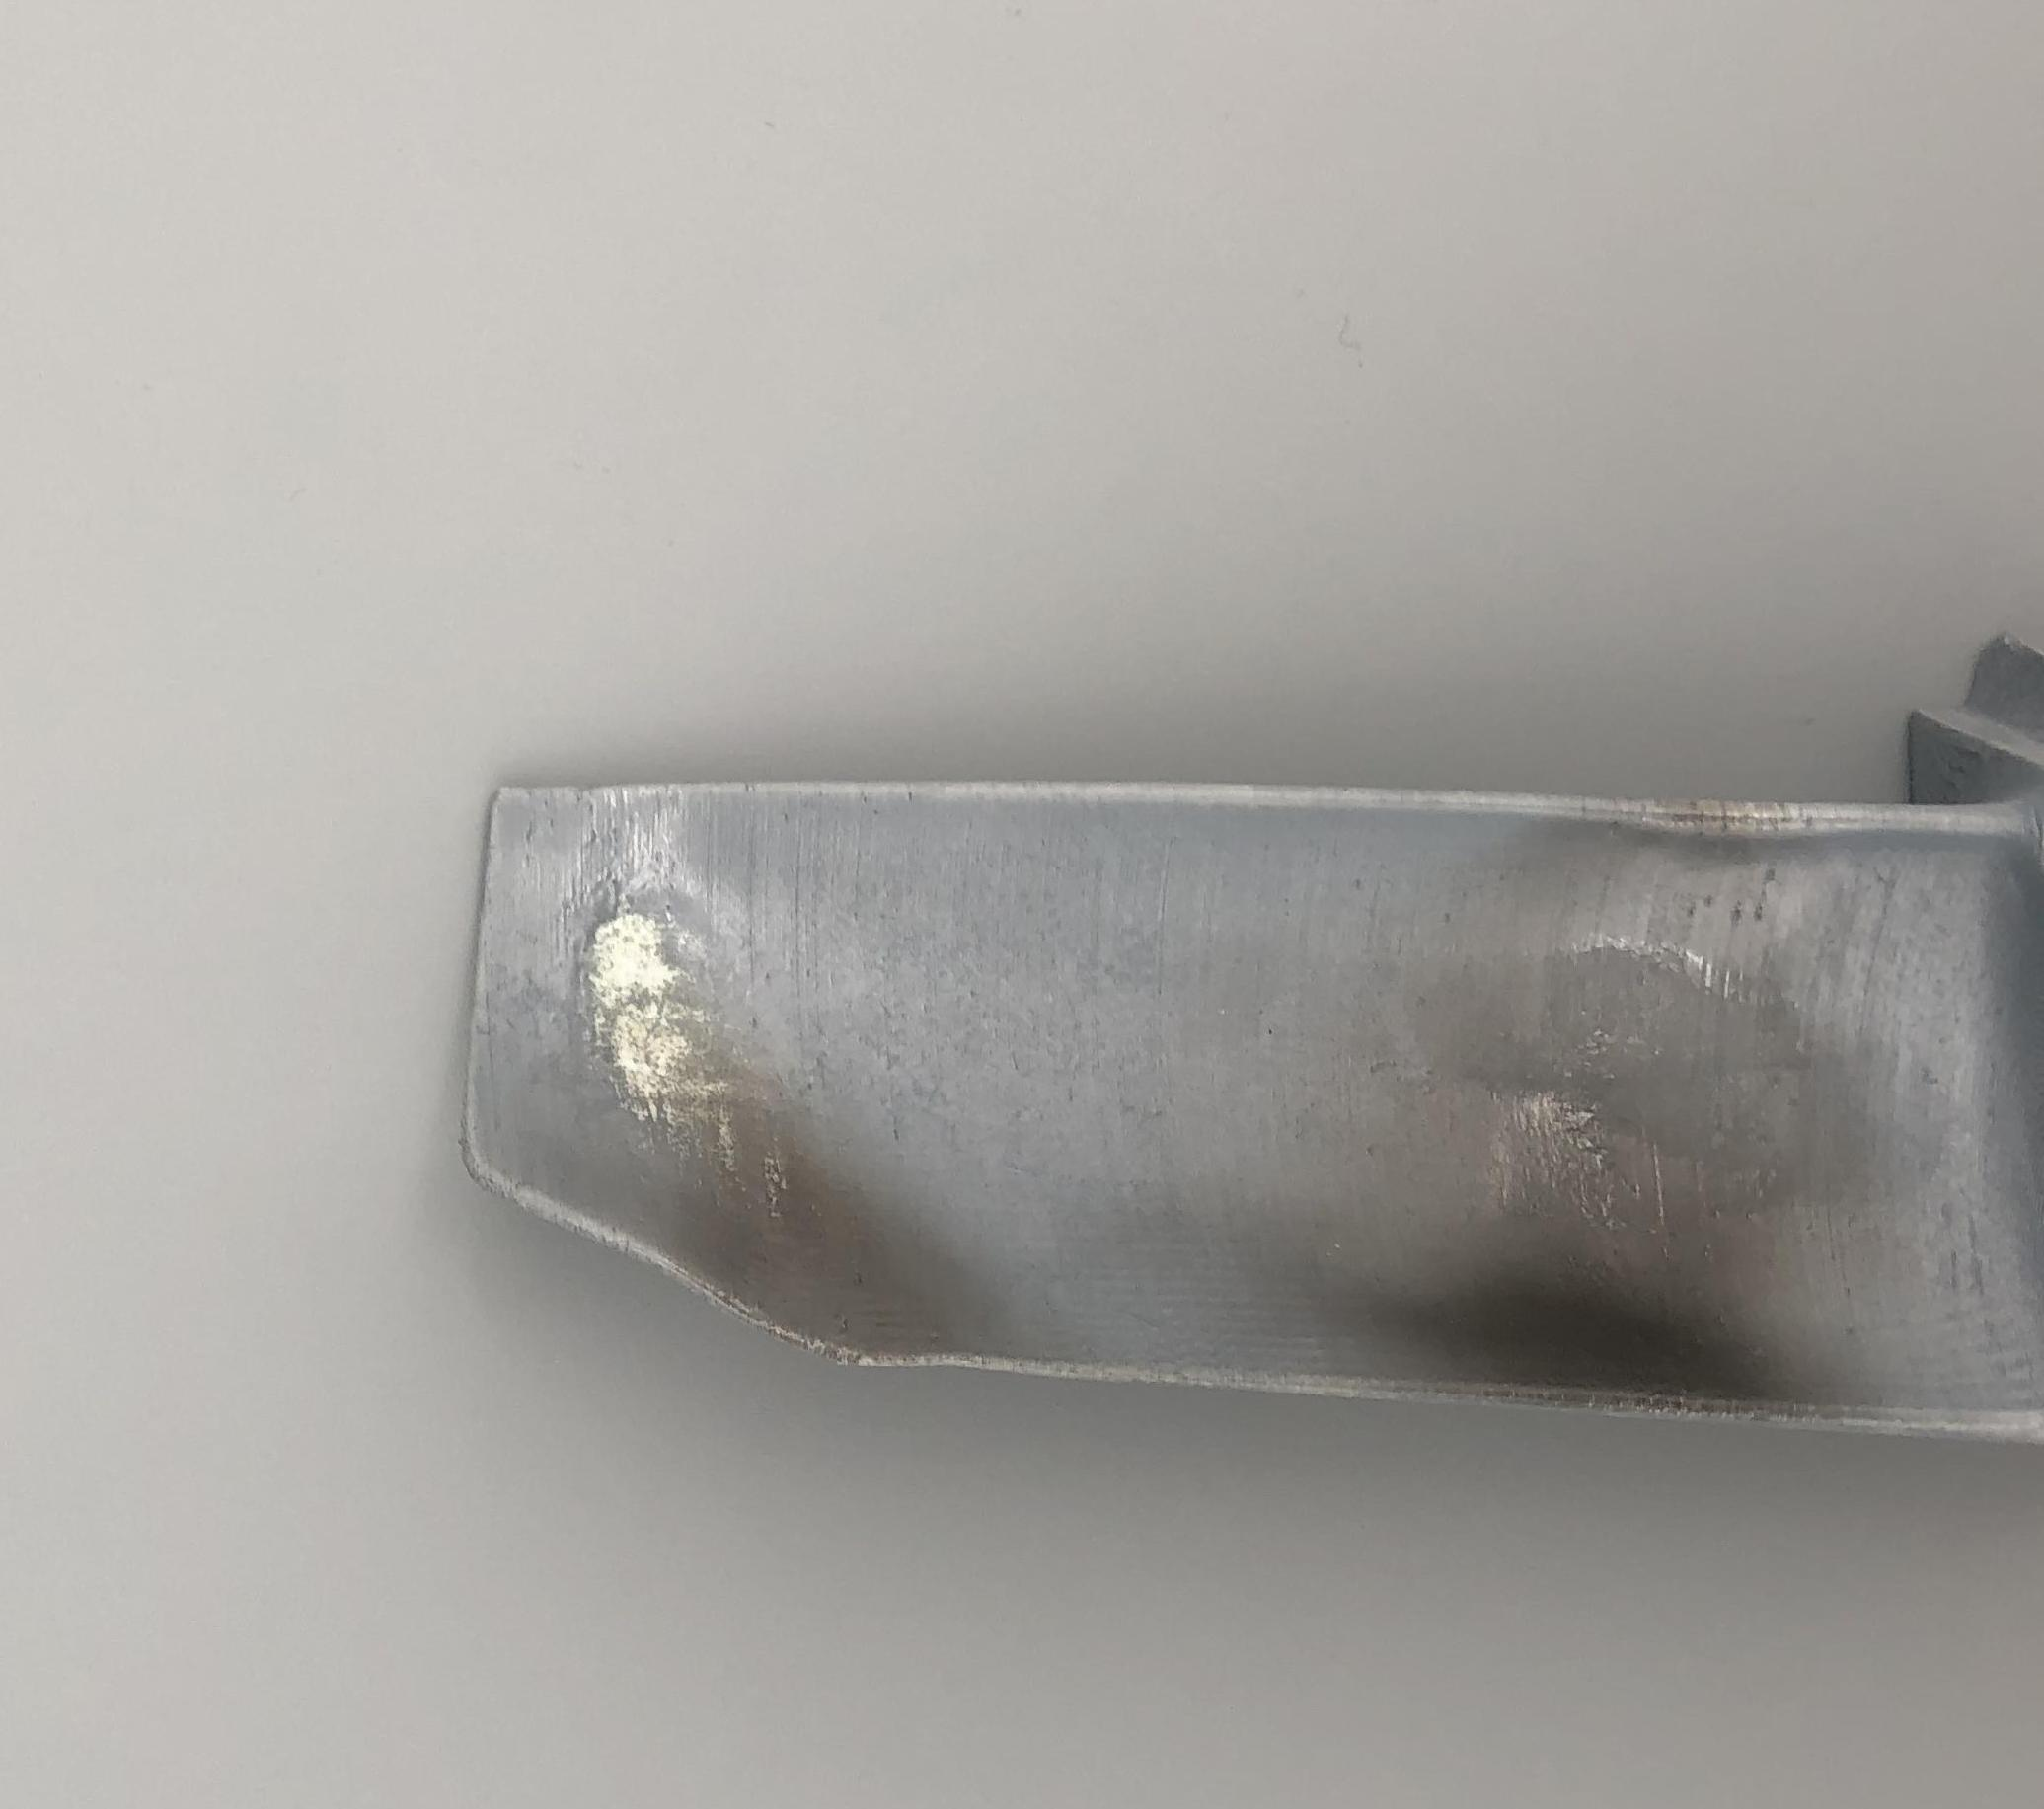ablation: (1458, 990, 1861, 1404), (689, 1079, 981, 1338)
